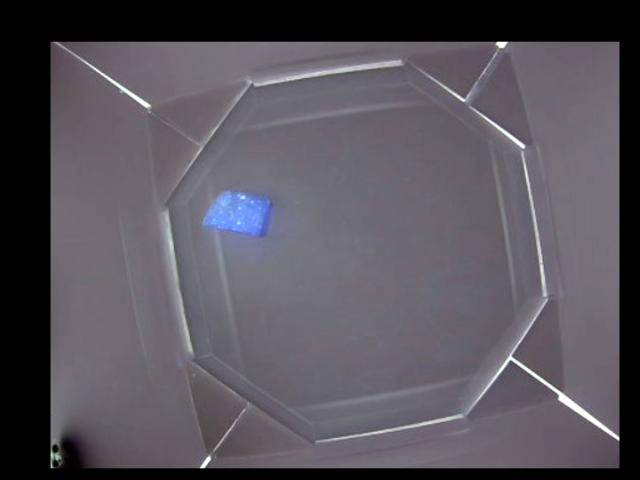Potato: (200, 186, 274, 238)
